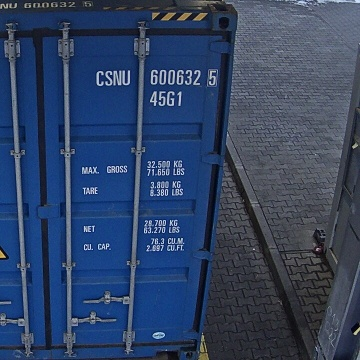serial_id: (95, 69, 215, 86)
